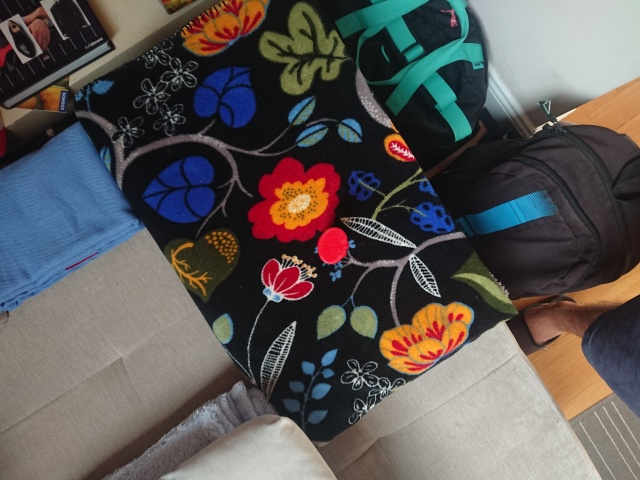Kotanyi Curry Spices Mix 70g: (315, 225, 351, 266)
